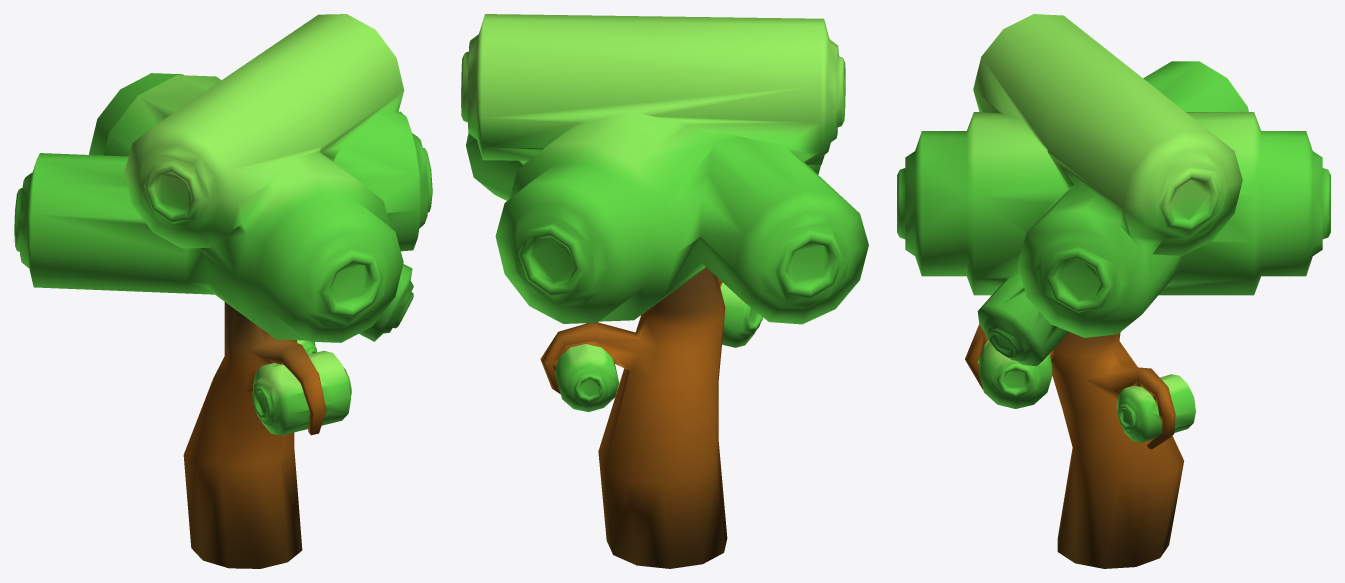
The model's file is BigTree2_Var1.glb.
3 views of the same model, side by side, from view 1: azimuth 30°, elevation 25°; view 2: azimuth 150°, elevation 25°; view 3: azimuth 270°, elevation 25° (orthographic). The views are drawn at different scales.
Parts seen in each view (by area): view 1: Tree_Cylinder; view 2: Tree_Cylinder; view 3: Tree_Cylinder.
Boxes of the visible parts, <box> form: Tree_Cylinder: <box>14,14,432,568</box>; Tree_Cylinder: <box>461,14,868,568</box>; Tree_Cylinder: <box>897,14,1330,568</box>.
Bounding box in the file's own units: 4.01 × 4.88 × 4.
Materials: 1 (1 with a texture image).
